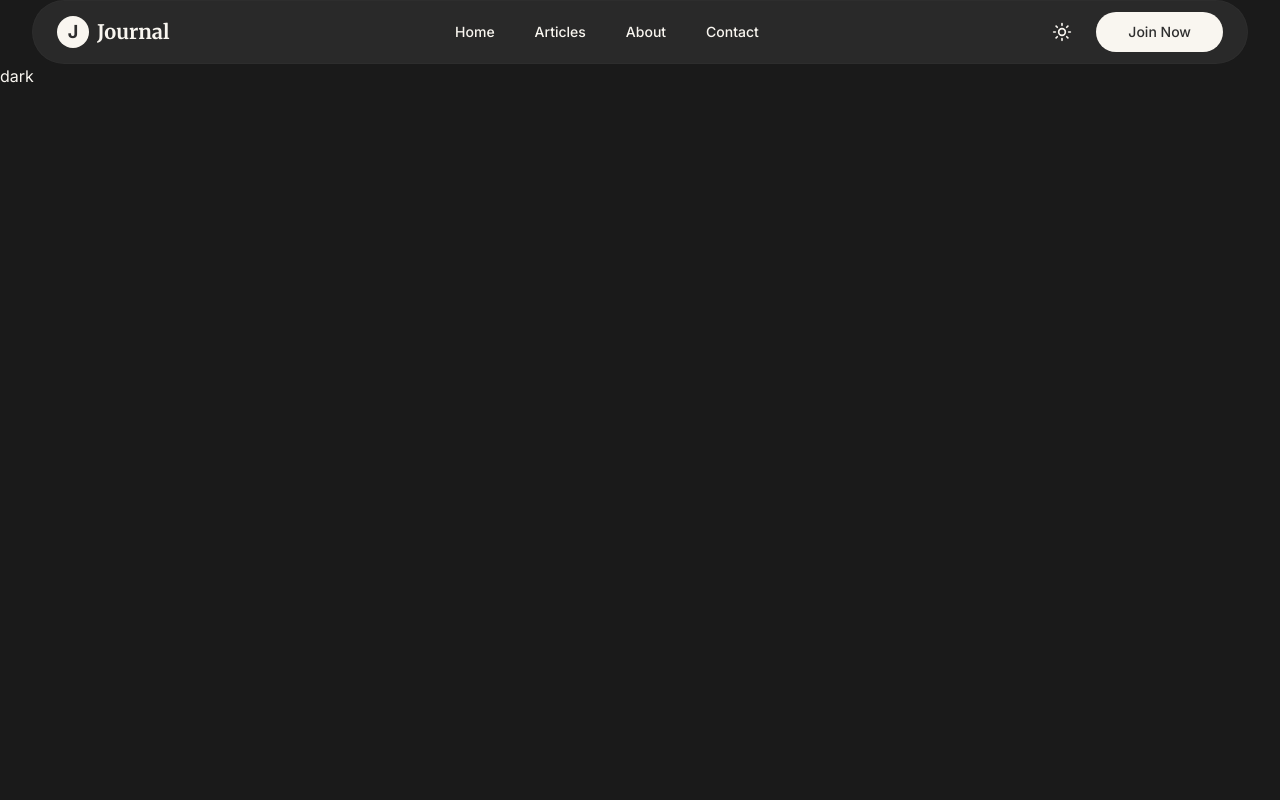
it: Navbar › restores a dark choice saved before the provider was introduced
Expected: the icon with class "lucide-sun" is shown, [1052,22,1072,42]
Click the button named "Toggle theme": [1062, 32] box [1044,14,1080,50]
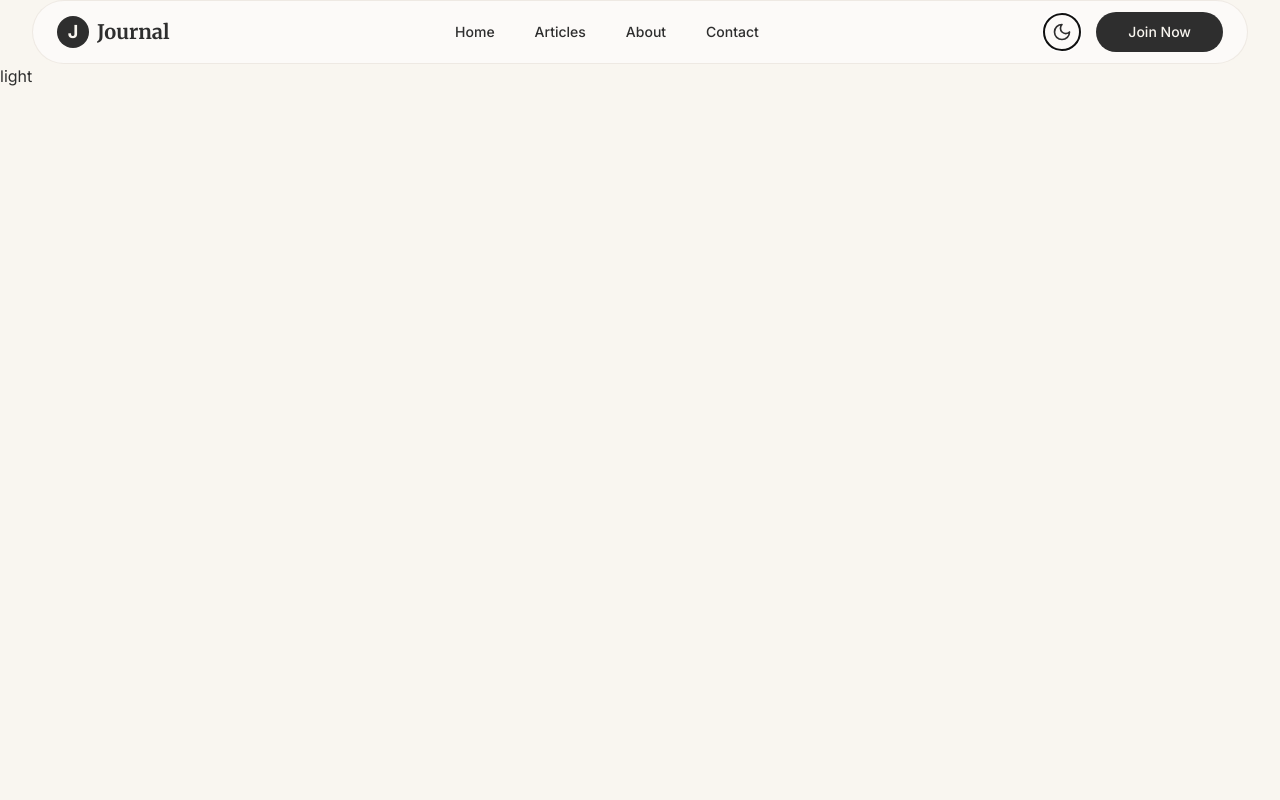
Expected: the text "light" is shown, [0,66,32,86]
